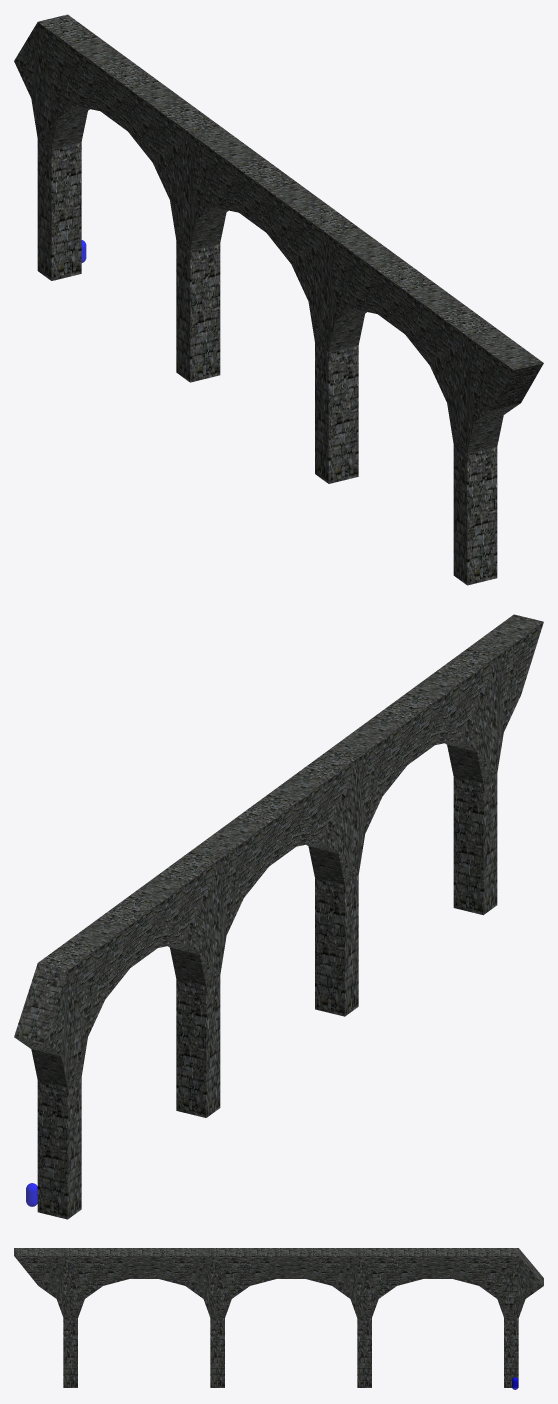
File: Brick Bridge.glb
The picture shows the model from 3 angles, top to bottom: view 1: azimuth 30°, elevation 25°; view 2: azimuth 150°, elevation 25°; view 3: azimuth 270°, elevation 25°; orthographic projection. The views are drawn at different scales.
Visible parts, largest first — view 1: Bridge, Bridge Segment 2, Bridge Segment 1; view 2: Bridge, Bridge Segment 2, Bridge Segment 1; view 3: Bridge, Bridge Segment 2, Bridge Segment 1.
Boxes of the visible parts, <box> form: Bridge: <box>14,14,266,382</box>; Bridge Segment 2: <box>352,261,543,585</box>; Bridge Segment 1: <box>214,160,404,483</box>; Bridge: <box>14,817,266,1219</box>; Bridge Segment 2: <box>375,614,543,915</box>; Bridge Segment 1: <box>237,716,405,1016</box>; Bridge: <box>307,1248,543,1387</box>; Bridge Segment 2: <box>14,1248,184,1387</box>; Bridge Segment 1: <box>161,1248,331,1387</box>.
Size of the model in its own units: 3.7 by 19.85 by 72.16.
Materials: 2 (1 with a texture image).
